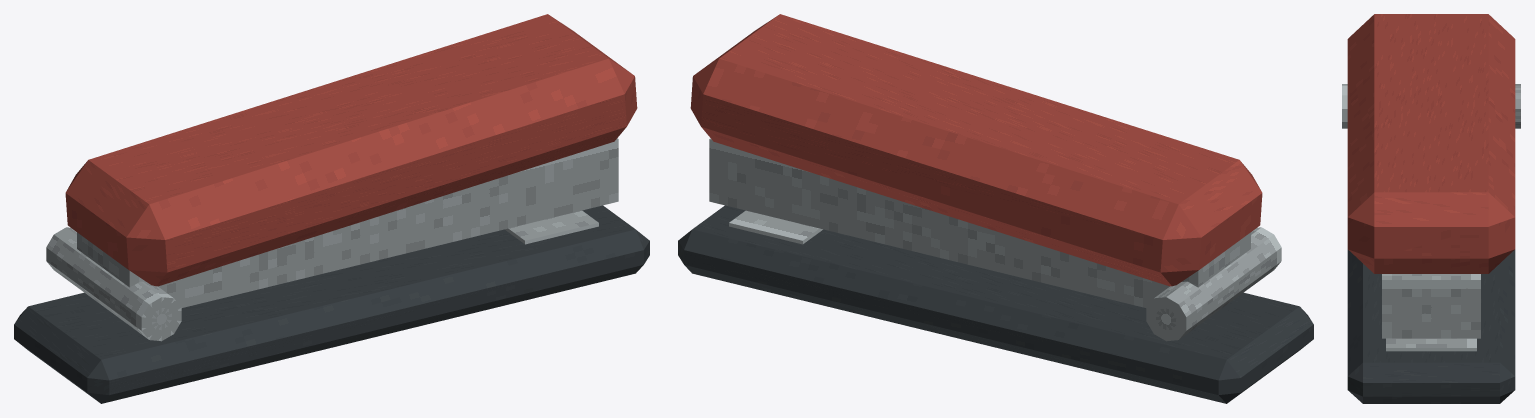
Rendered from stapler.glb.
3 renders of one model, left to right at view 1: azimuth 30°, elevation 25°; view 2: azimuth 150°, elevation 25°; view 3: azimuth 270°, elevation 25°, orthographic. The views are drawn at different scales.
Visible parts, largest first — view 1: block_red top cap, block_non-slip foot, block_staple channel, block_hinge pin, block_striker plate; view 2: block_red top cap, block_non-slip foot, block_staple channel, block_hinge pin, block_striker plate; view 3: block_red top cap, block_non-slip foot, block_staple channel, block_striker plate, block_hinge pin.
Boxes of the visible parts, <box> form: block_red top cap: <box>65,14,637,286</box>; block_non-slip foot: <box>14,205,649,403</box>; block_staple channel: <box>77,138,618,307</box>; block_hinge pin: <box>46,227,181,341</box>; block_striker plate: <box>505,210,598,244</box>; block_red top cap: <box>690,14,1262,286</box>; block_non-slip foot: <box>678,205,1313,403</box>; block_staple channel: <box>709,138,1250,307</box>; block_hinge pin: <box>1146,227,1281,341</box>; block_striker plate: <box>729,210,822,244</box>; block_red top cap: <box>1347,14,1515,273</box>; block_non-slip foot: <box>1347,249,1515,403</box>; block_staple channel: <box>1382,274,1480,338</box>; block_striker plate: <box>1386,338,1476,351</box>; block_hinge pin: <box>1342,84,1520,128</box>.
Bounding box in the file's own units: 0.16 × 0.0586 × 0.047.
1 material, 1 textured.
